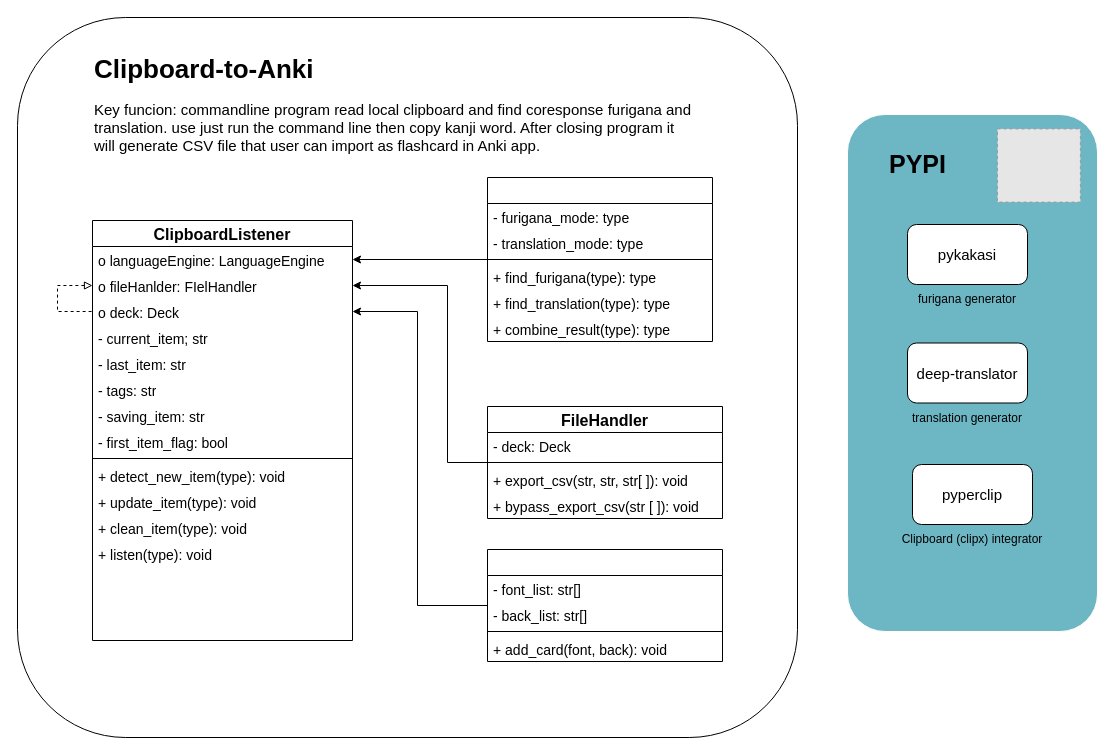
This 1115x755 diagram has some shape labels left out. Grey dashed boxes stand in for pictures. Here are the shapes that lost their labels. From the top down, the box of each, then its label:
(486, 176, 712, 342): LanguageEngine
(486, 548, 722, 662): Deck
